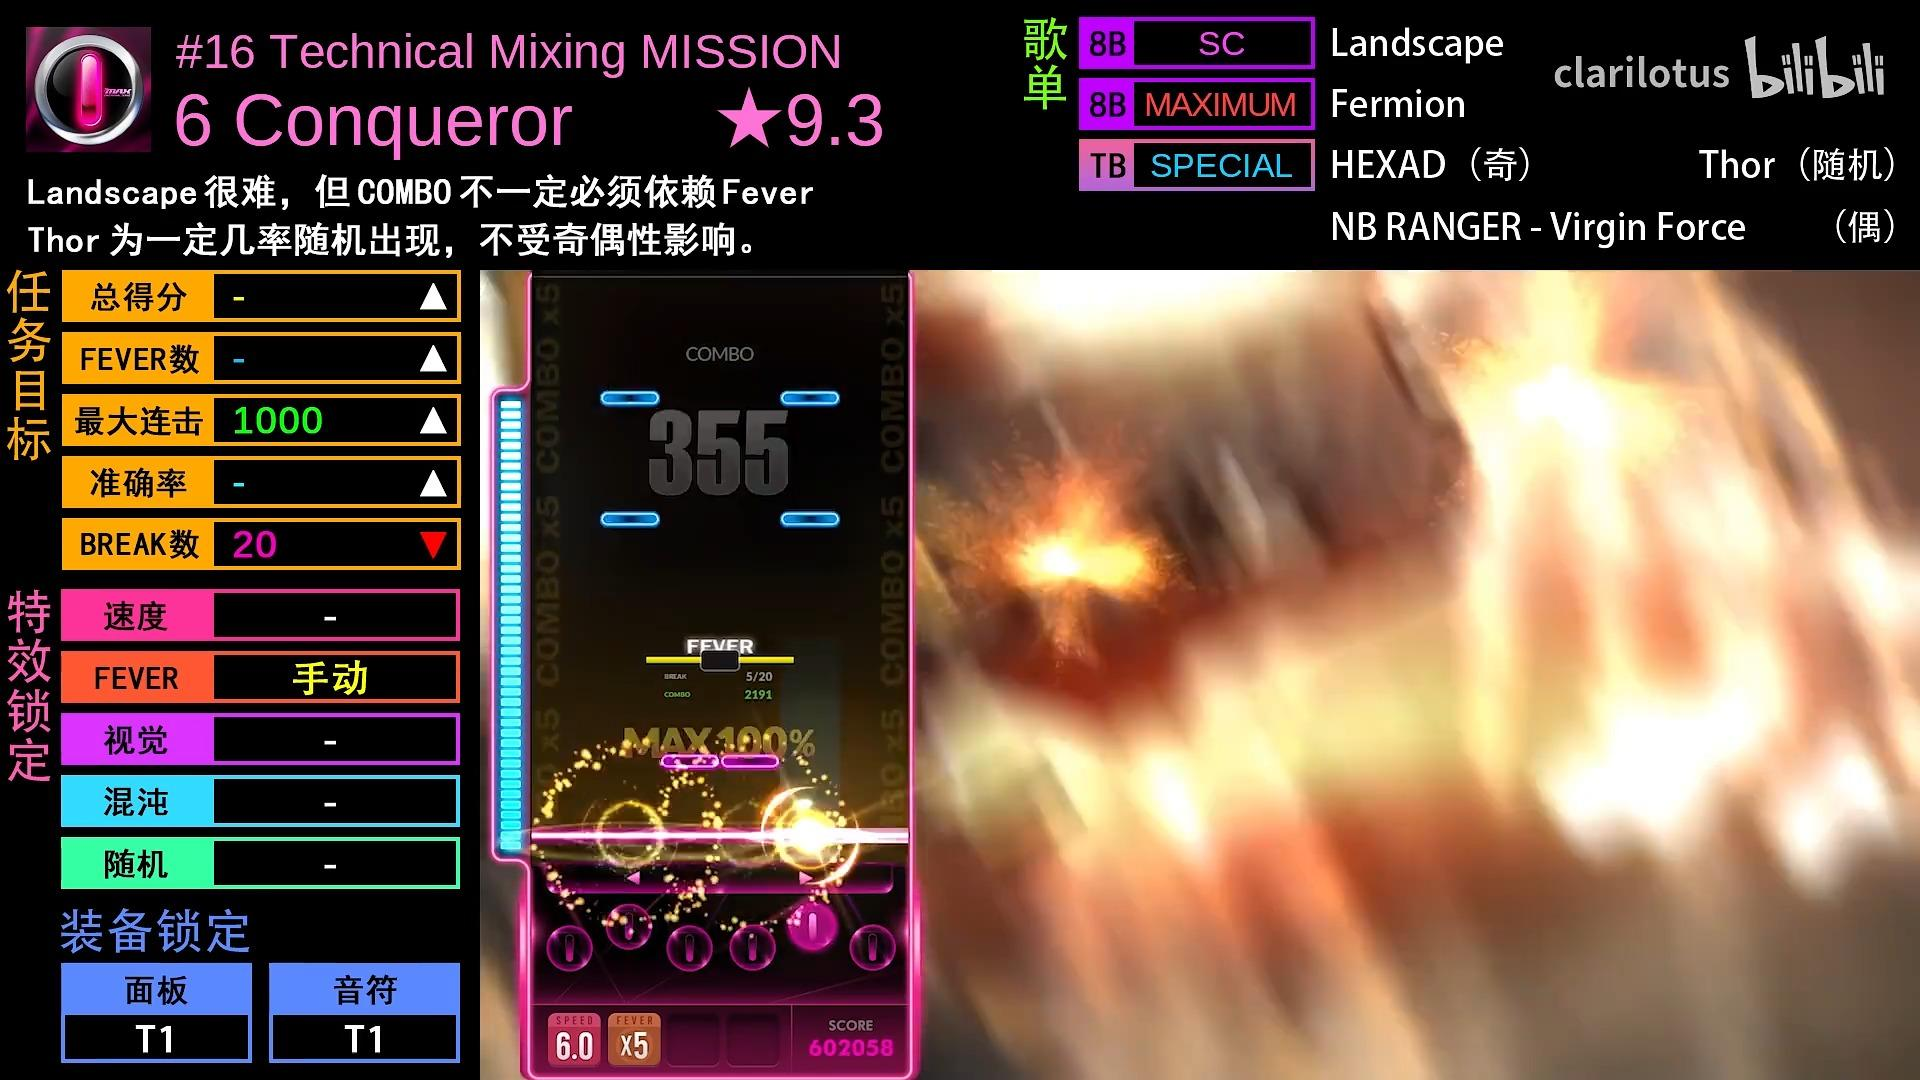note: (778, 390, 840, 406), (781, 510, 841, 526), (600, 390, 659, 406), (600, 512, 659, 526), (661, 754, 719, 769), (720, 754, 781, 767)
